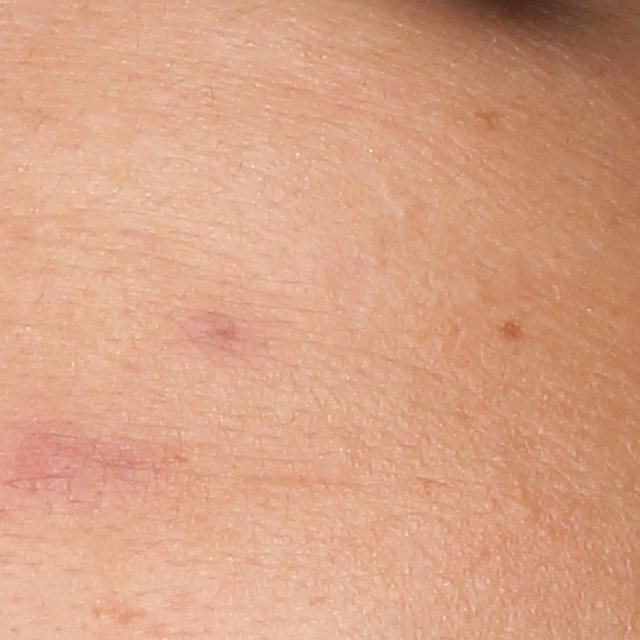atrophic_scar: (91, 593, 143, 625)
